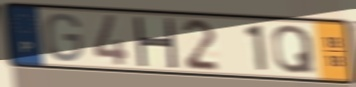1: (244, 24, 269, 73)
2: (180, 17, 225, 73)
4: (91, 12, 130, 68)
G: (43, 12, 85, 64)
H: (131, 15, 179, 70)
Q: (271, 23, 318, 75)
